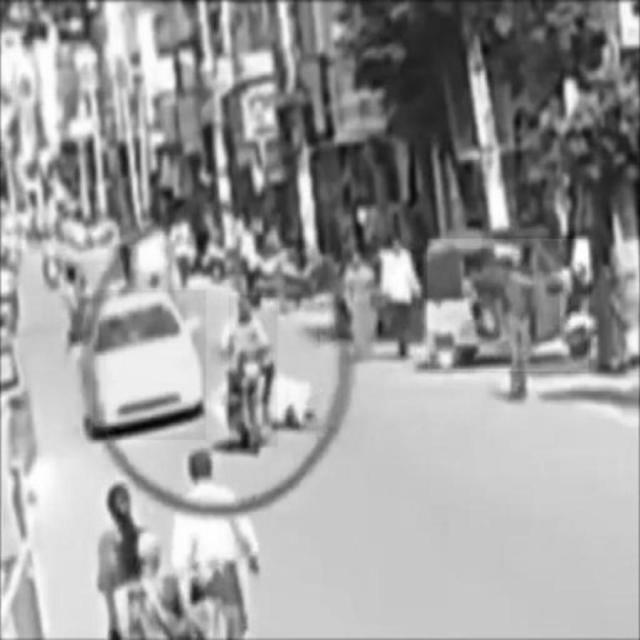vehicle: (428, 239, 588, 371), (93, 290, 206, 440), (229, 295, 277, 447)
